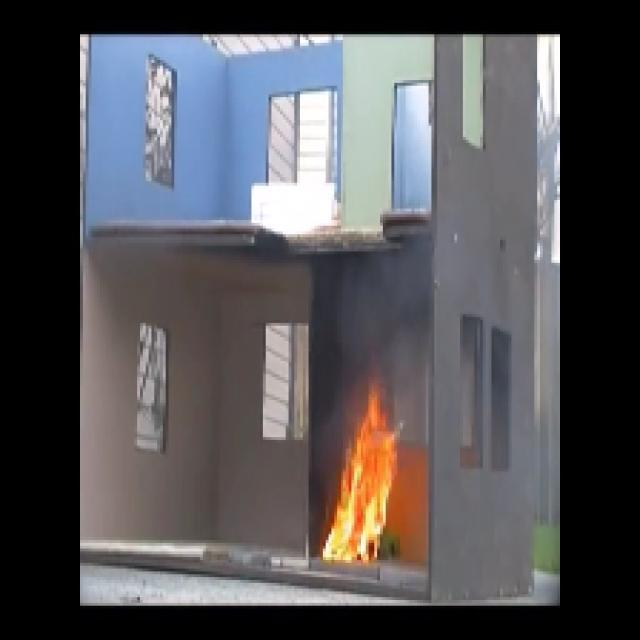Fire: (332, 407, 394, 565)
Smoke: (322, 262, 403, 346)
